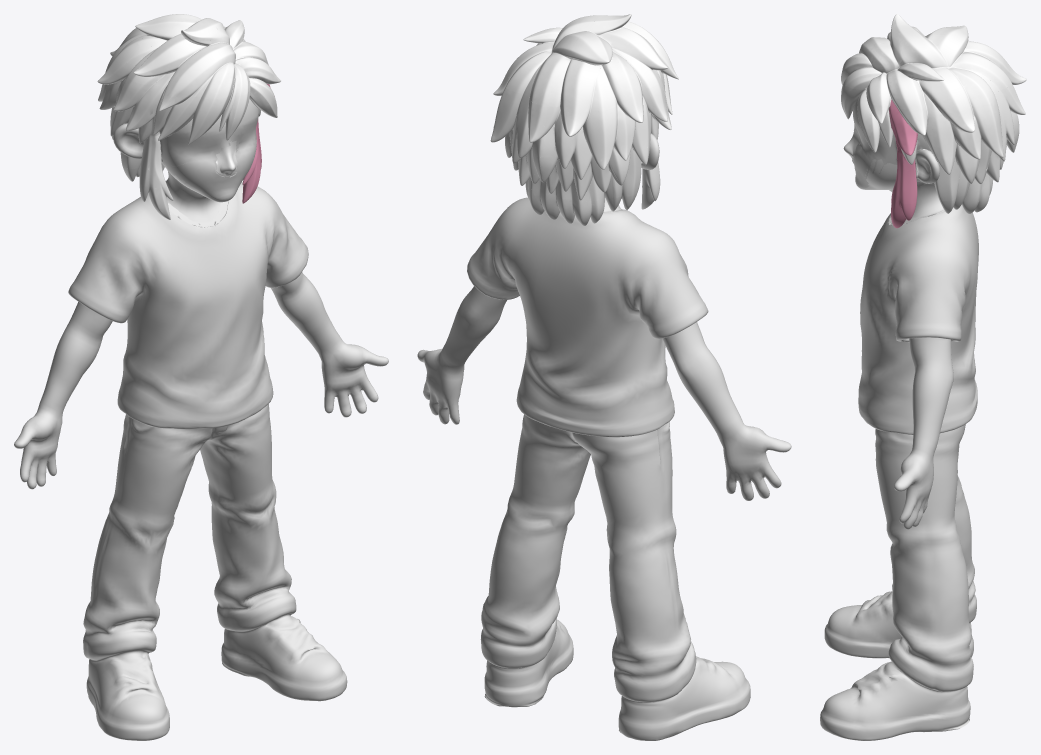
3 renders of one model, left to right at view 1: azimuth 30°, elevation 25°; view 2: azimuth 150°, elevation 25°; view 3: azimuth 270°, elevation 25°, orthographic. The views are drawn at different scales.
Visible parts, largest first — view 1: Iam_cabeza_corte_limpio, Node_0_Pelo; view 2: Iam_cabeza_corte_limpio, Node_0_Pelo; view 3: Iam_cabeza_corte_limpio, Node_0_Pelo.
Part boxes in pixels (x1,y1,x2,y2): Iam_cabeza_corte_limpio: [14, 99, 388, 740]; Node_0_Pelo: [97, 14, 280, 219]; Iam_cabeza_corte_limpio: [417, 133, 791, 740]; Node_0_Pelo: [490, 14, 678, 225]; Iam_cabeza_corte_limpio: [820, 98, 978, 740]; Node_0_Pelo: [841, 14, 1026, 228].
Size of the model in its own units: 0.5733 by 0.9979 by 0.2823.
Materials: 33 (1 with a texture image).
